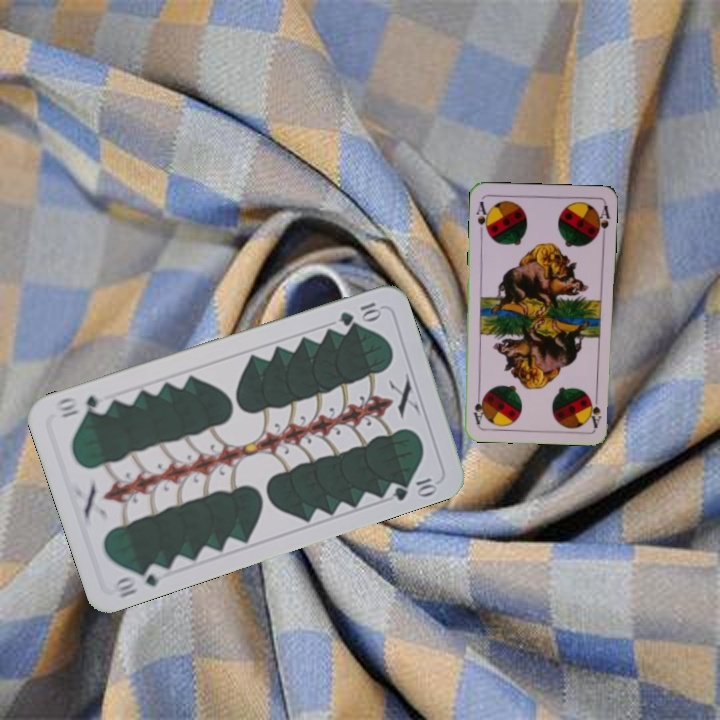G10: (111, 560, 168, 601), (335, 298, 384, 329)
SA: (472, 197, 492, 237), (586, 389, 604, 429)
